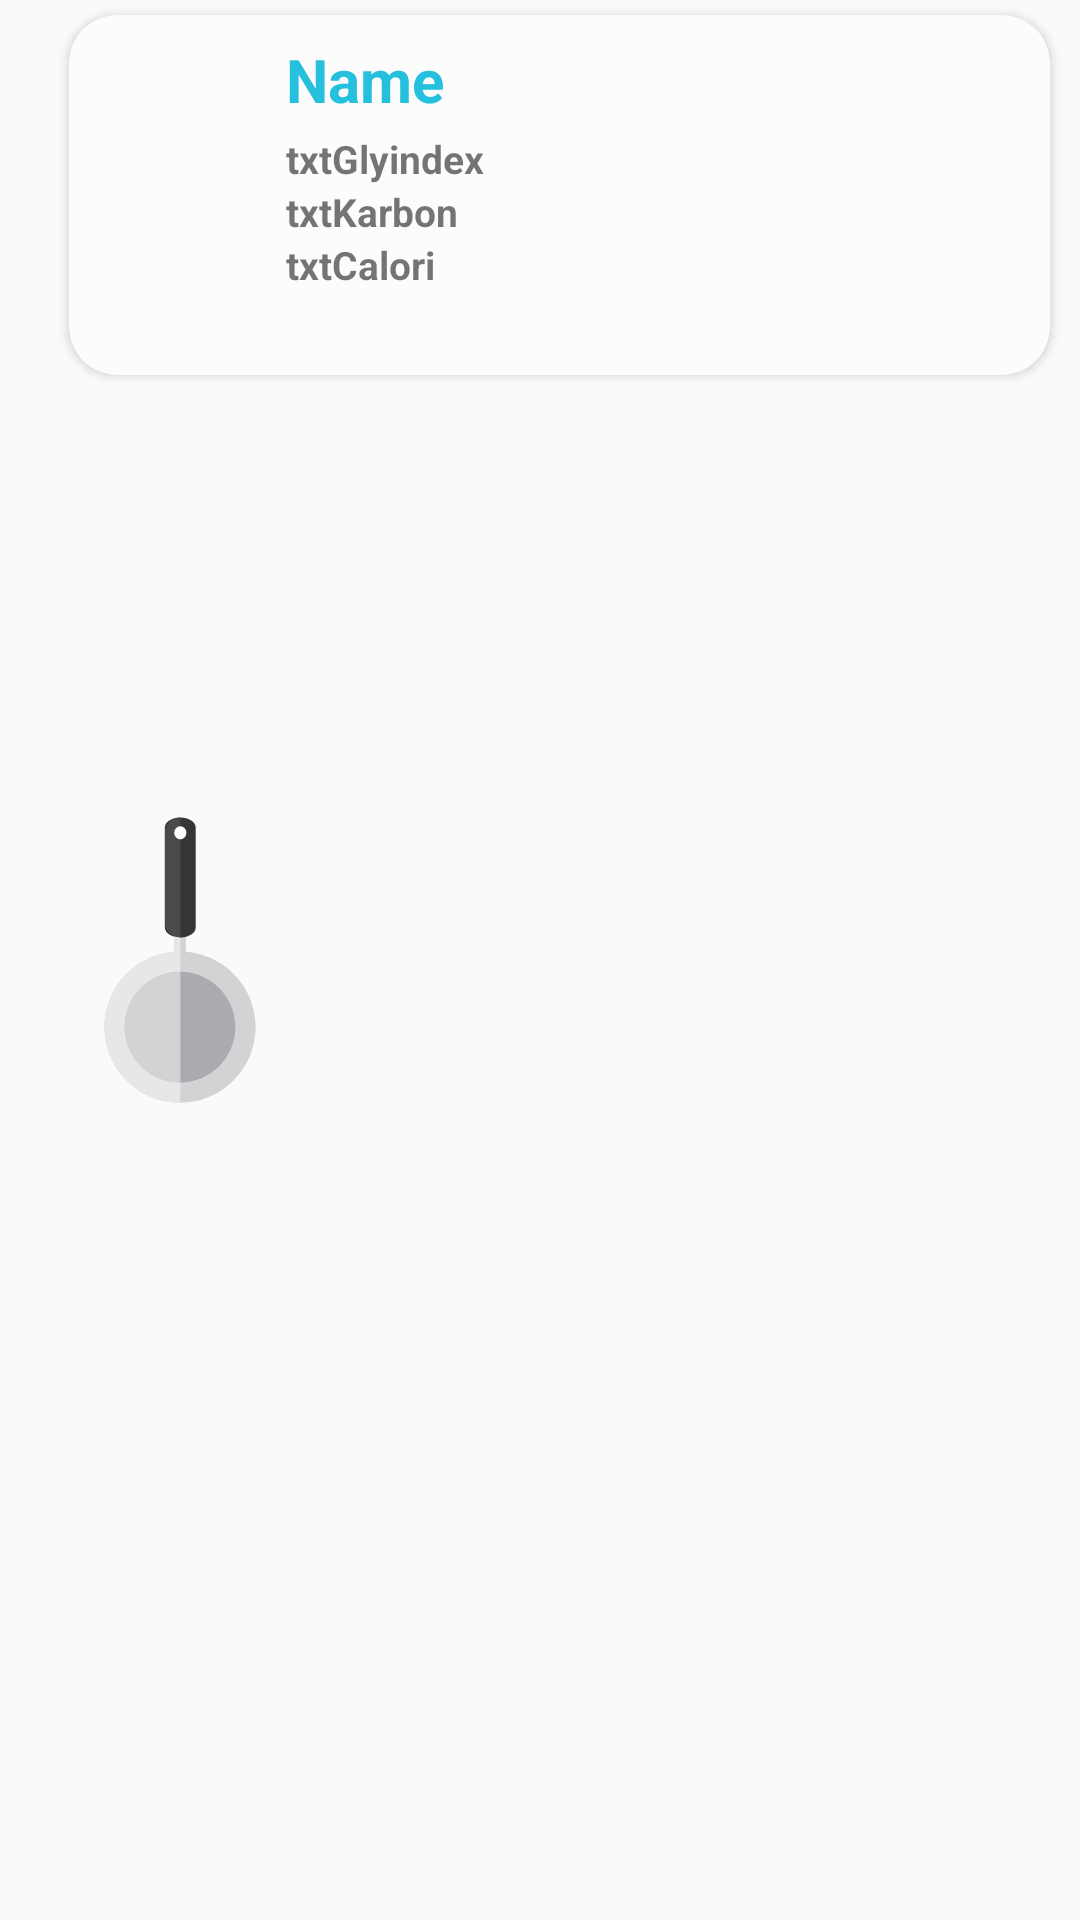

Icon click points for this 1080x1920 phone screenshot, format (x=x, y=y):
tava: (x=189, y=960)
